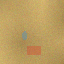person: (22, 31, 27, 40)
vehicle: (27, 46, 41, 55)
